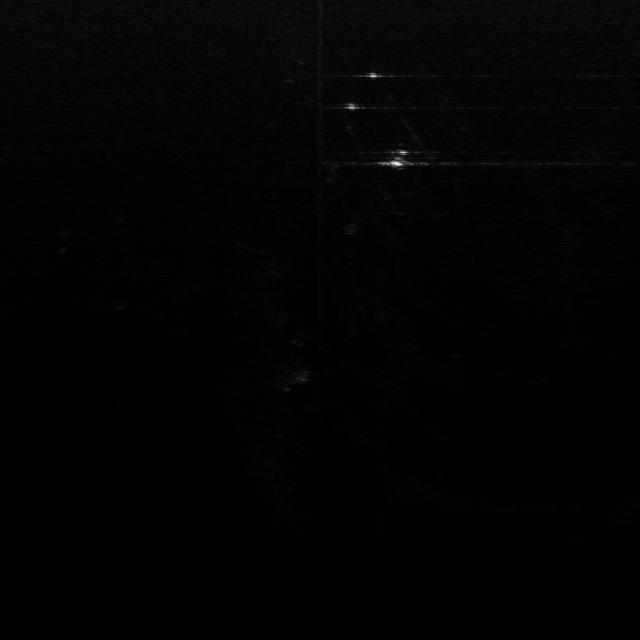rov: (381, 147, 417, 168)
